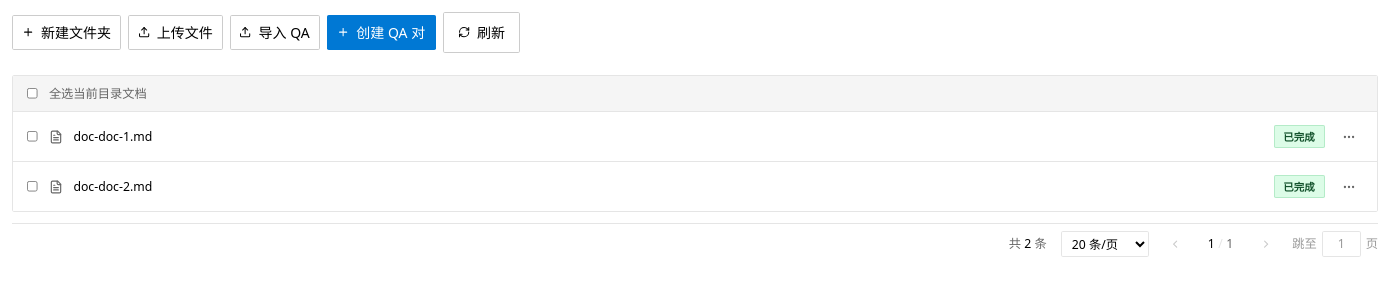
Test: KbDocumentsTab › summarizes partial batch reindex failures and keeps failed items selected
Click the 2nd checkbox: (33, 137) [27,131,38,142]
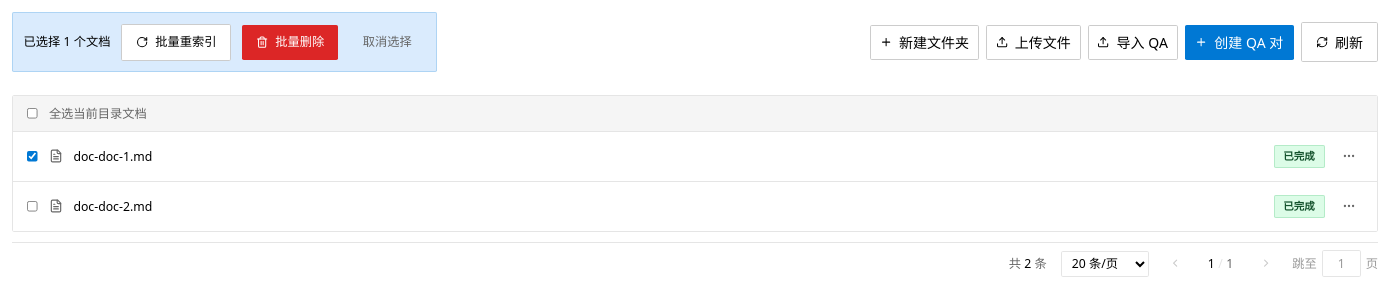
Click the 3rd checkbox: (33, 206) [27,201,38,212]
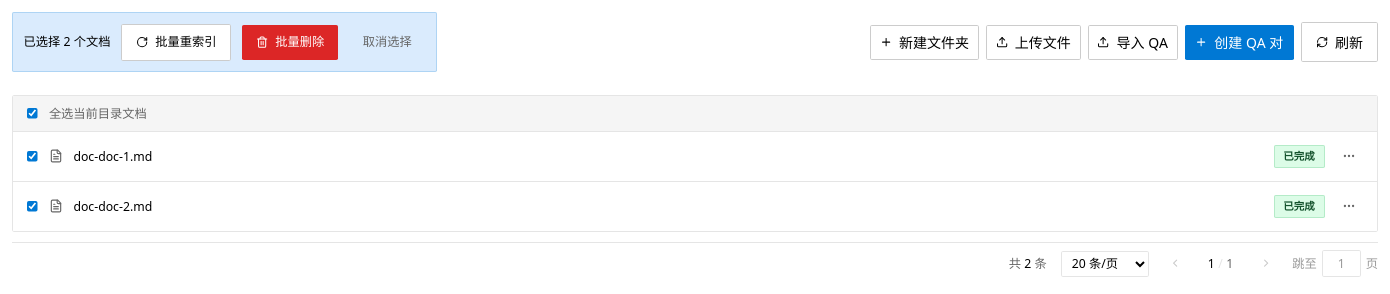
Click the button "批量重索引": (176, 42) [121,24,231,60]
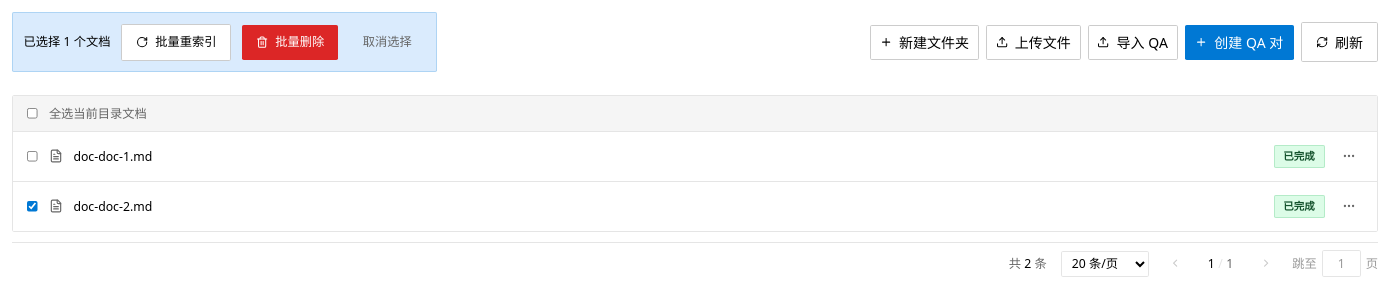
Expected: the text "已选择 1 个文档" is shown, [24,33,110,51]
